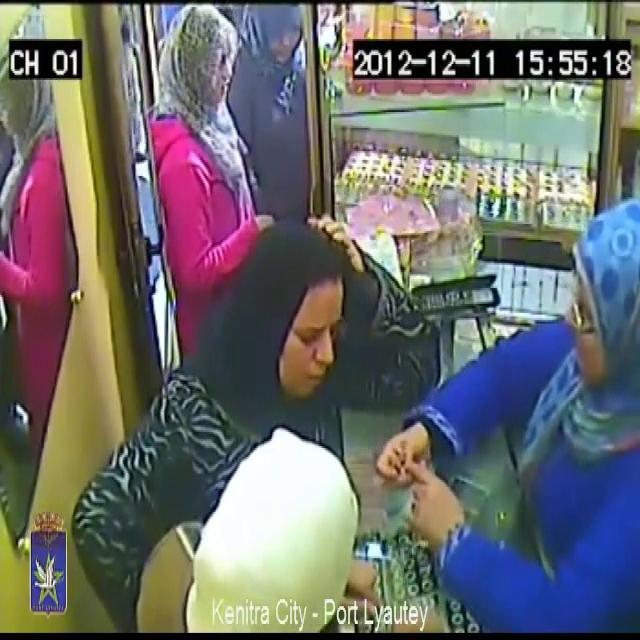Product: (386, 444, 404, 488)
normal: (139, 404, 407, 640), (247, 195, 378, 412), (228, 0, 314, 192)
shoplifting: (411, 199, 640, 640), (149, 7, 303, 274)
